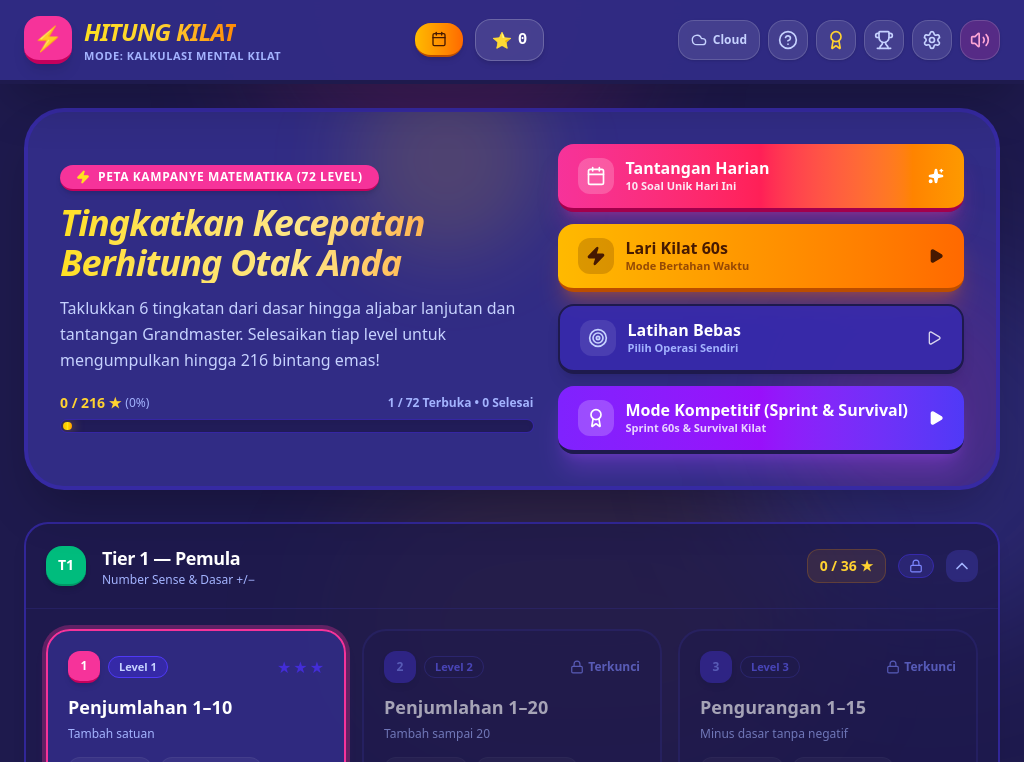
it: Lazy Screen & Modal Loading Integration (Task 5) › dynamically loads and renders HelpModal when help button is clicked
Click the button titled "Panduan Bermain & Tips Trik": (788, 40) x1=768 y1=20 x2=808 y2=60
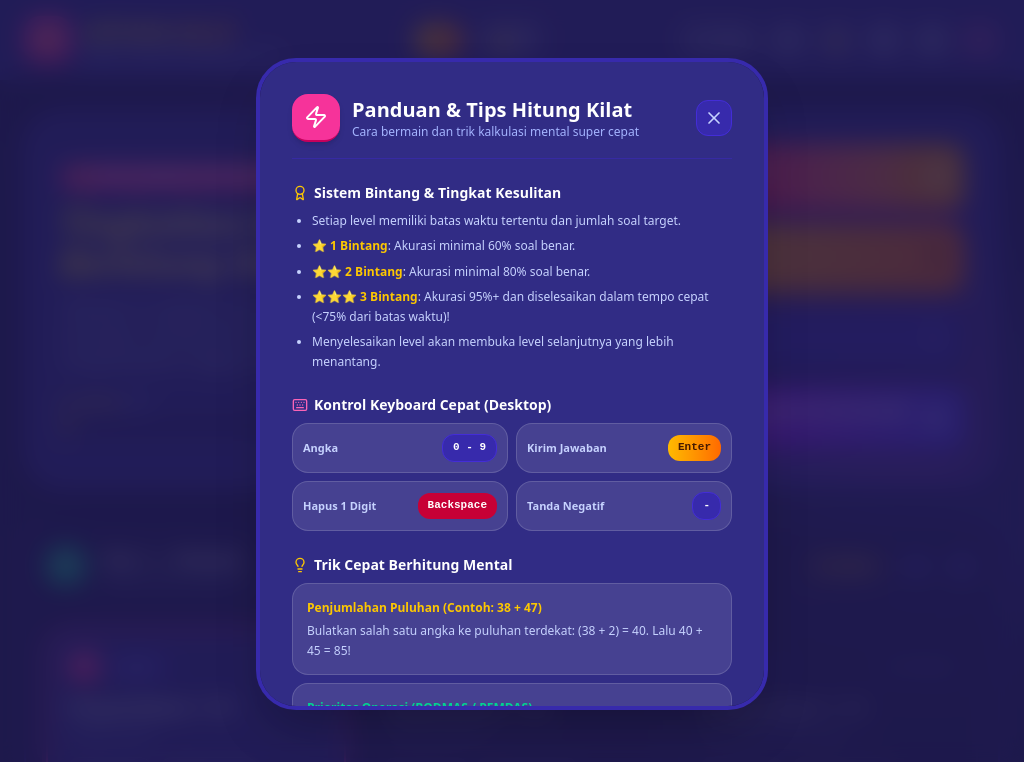
Now the heading "Panduan & Tips Hitung Kilat" is shown, box x1=352 y1=96 x2=639 y2=124
